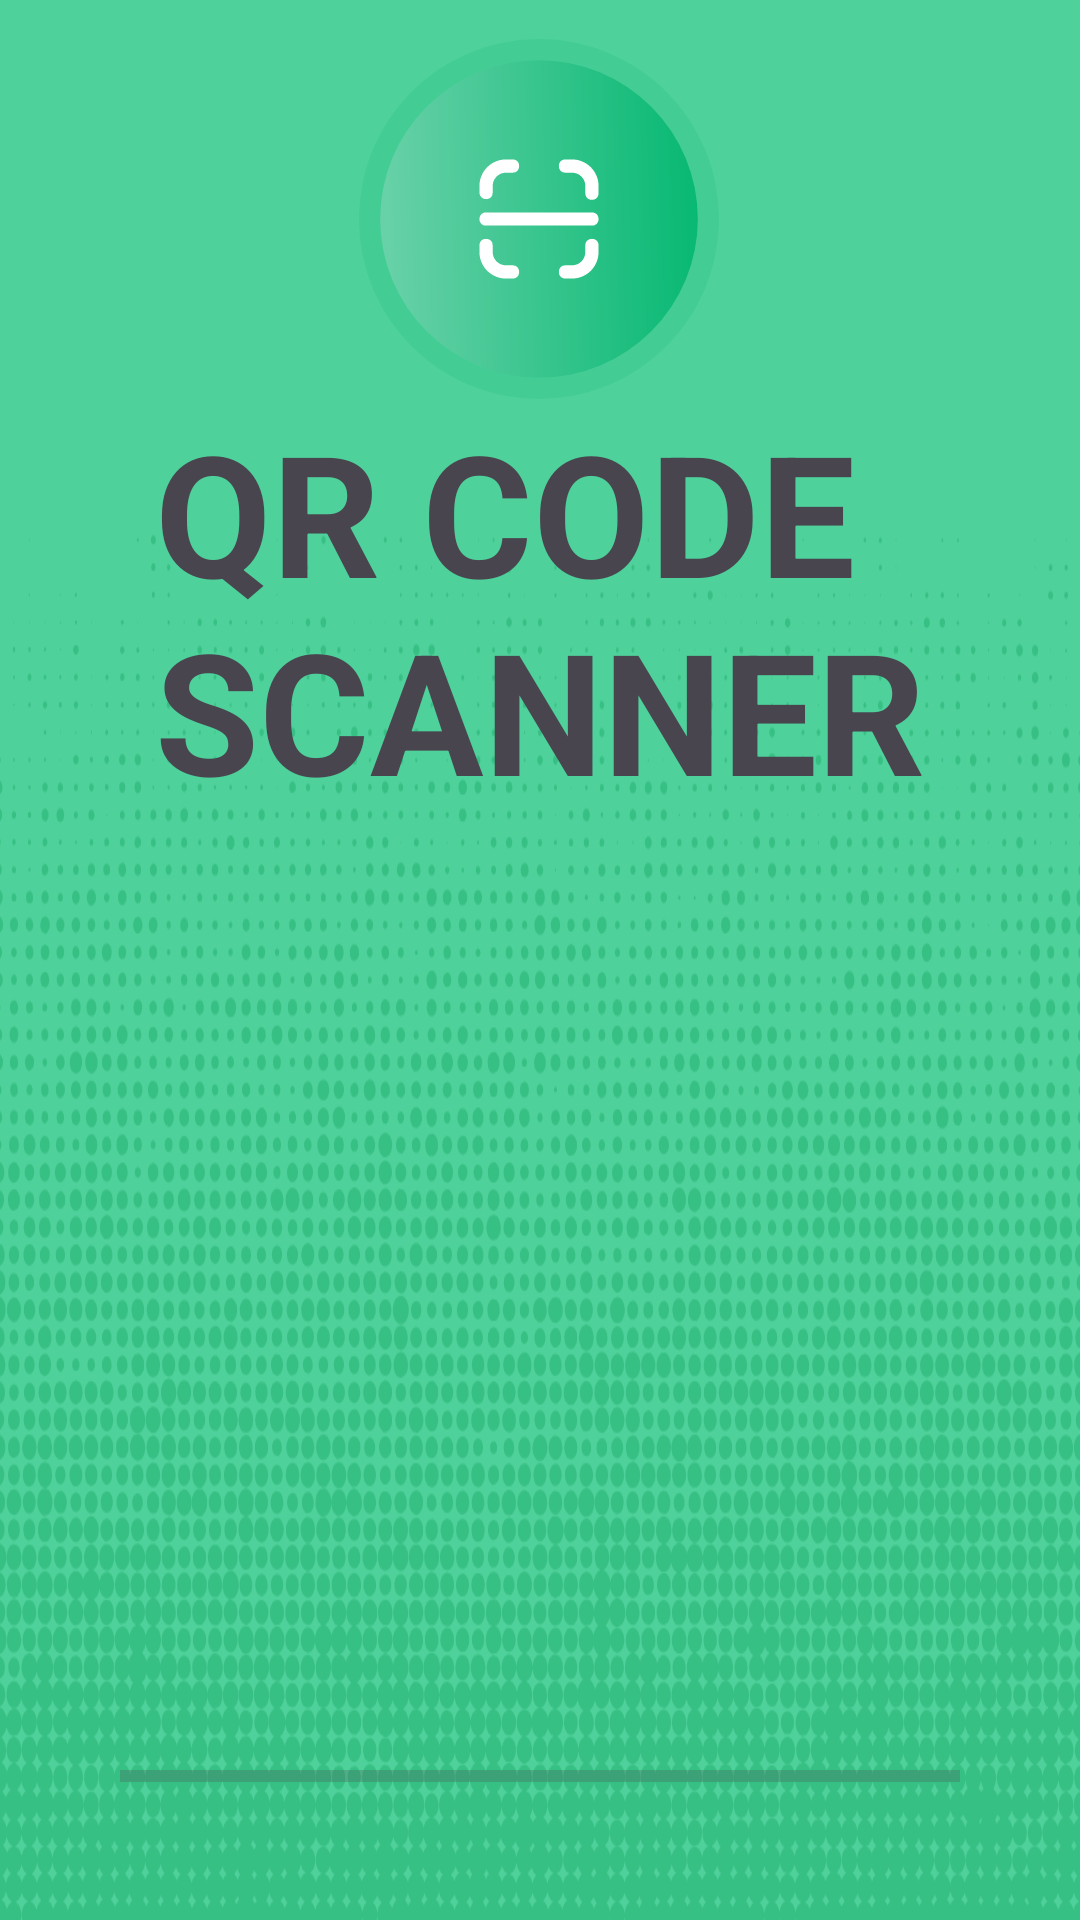

Where icons sit on this 1080px×1920px app screen, as region(x1, y1, x2, y2):
scan round: region(381, 61, 698, 377)
